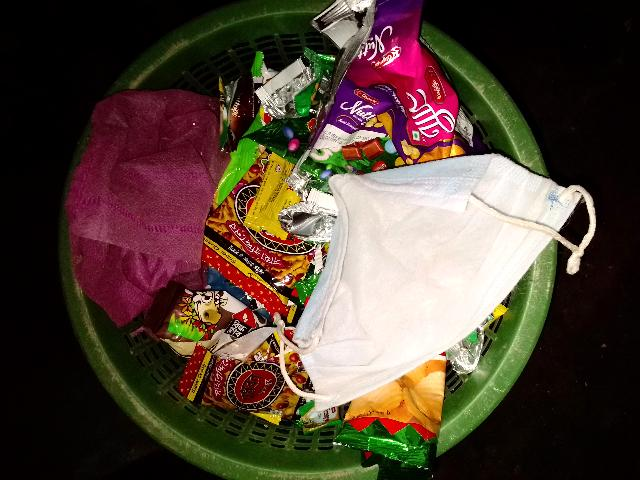mask: (271, 147, 601, 410)
